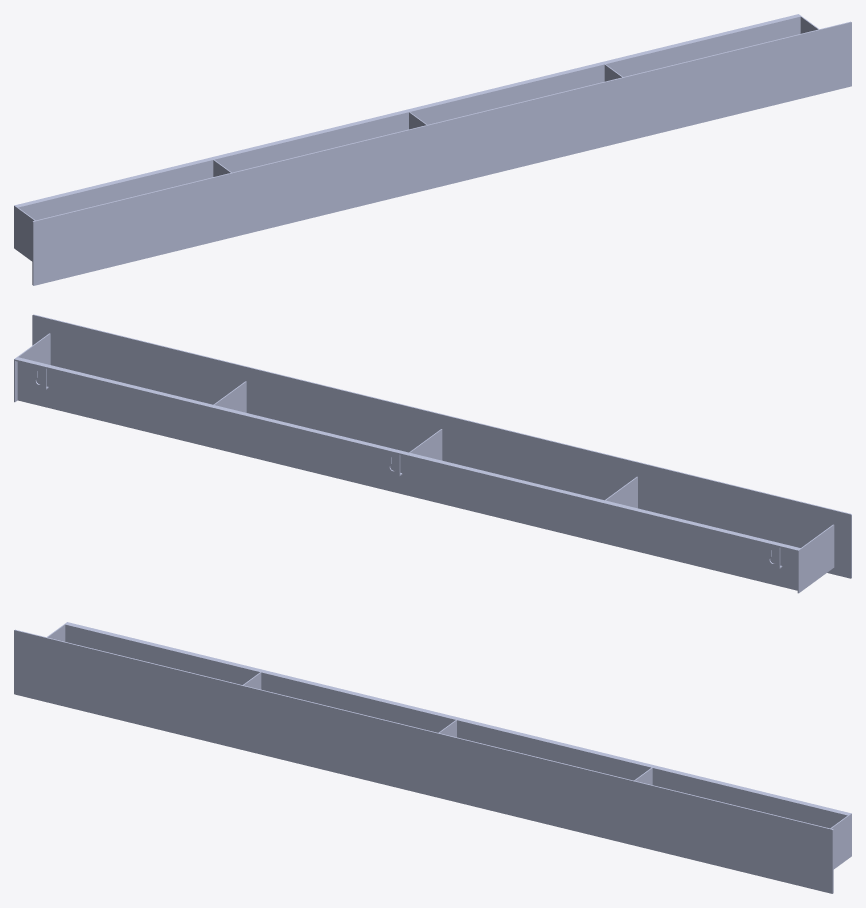
Rendered from skyline-mono.b8be73244a.glb.
3 renders of one model, top to bottom at view 1: azimuth 30°, elevation 25°; view 2: azimuth 150°, elevation 25°; view 3: azimuth 330°, elevation 25°, orthographic.
Visible parts, largest first — view 1: NAUO1; view 2: NAUO1; view 3: NAUO1.
Part boxes in pixels (x1,y1,x2,y2): NAUO1: (14,14,851,285); NAUO1: (14,314,851,593); NAUO1: (14,622,851,893).
Size of the model in its own units: 1.2 by 0.0899 by 0.092.
